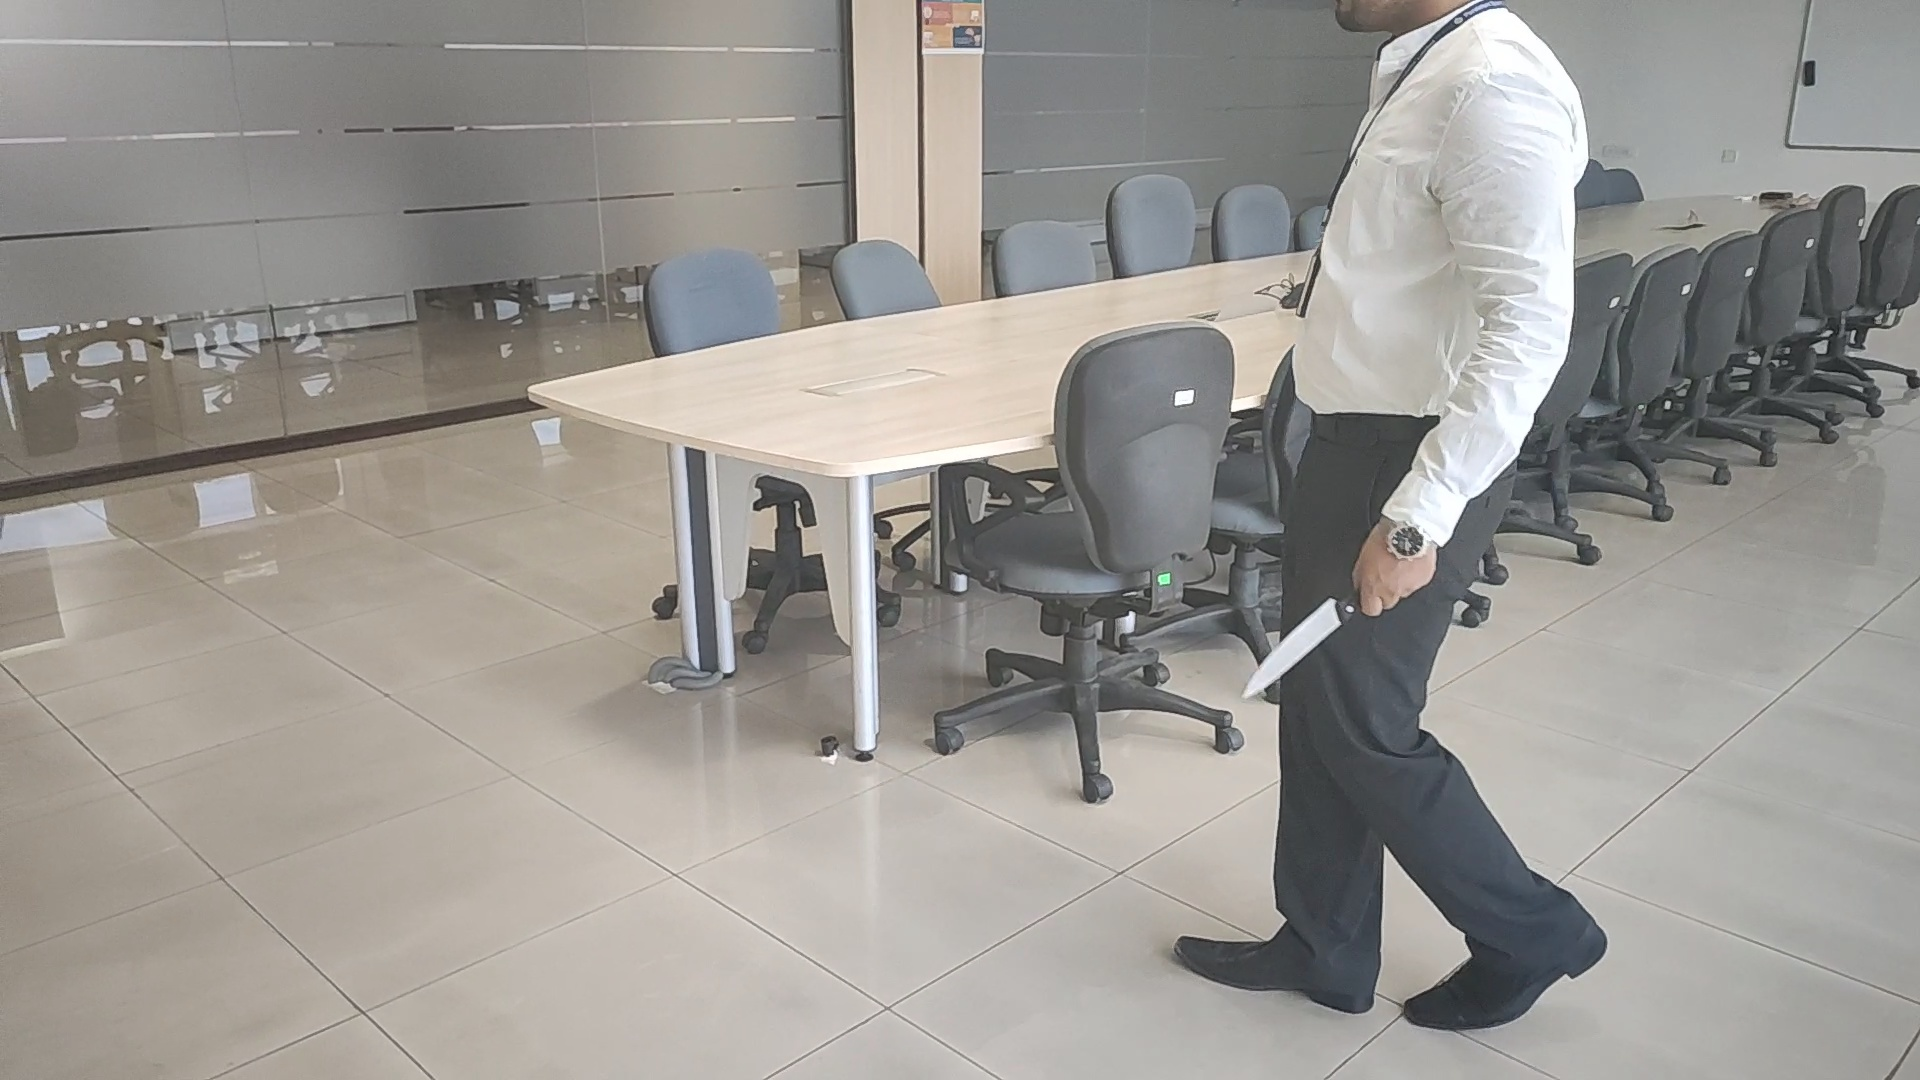knife: (1240, 582, 1364, 705)
